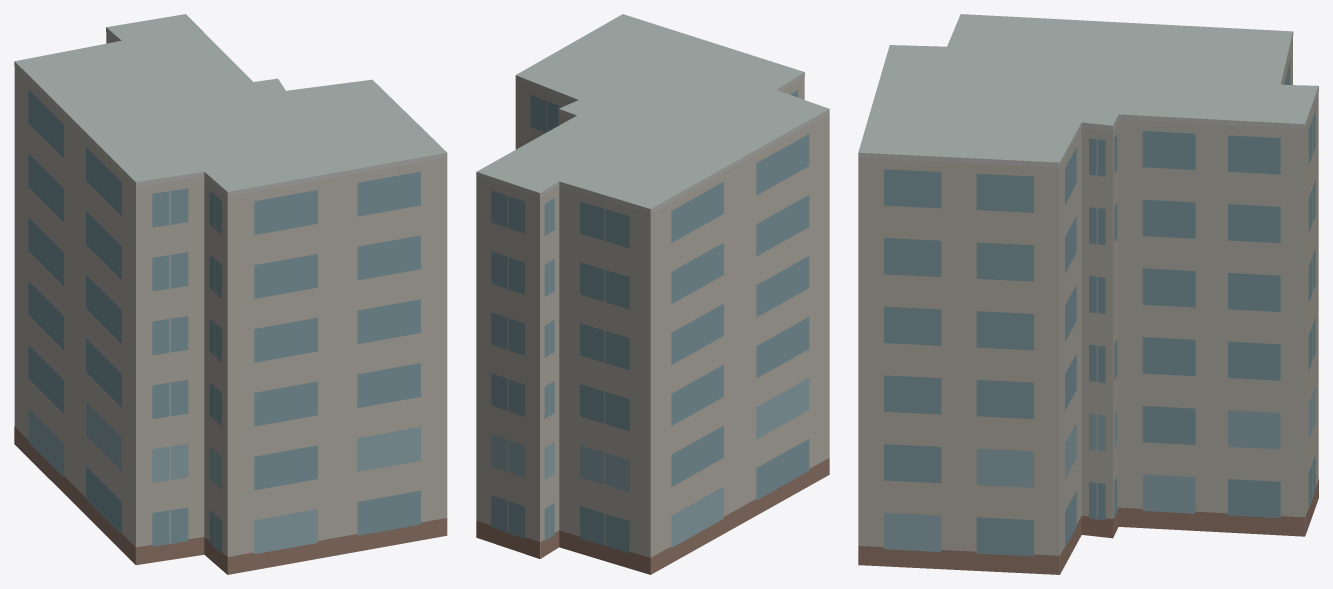
File: survey-upis-32566766.glb
3 renders of one model, left to right at view 1: azimuth 30°, elevation 25°; view 2: azimuth 150°, elevation 25°; view 3: azimuth 270°, elevation 25°, orthographic. The views are drawn at different scales.
Parts seen in each view (by area): view 1: survey-upis-32566766.tmp; view 2: survey-upis-32566766.tmp; view 3: survey-upis-32566766.tmp.
Boxes of the visible parts, x1=… form: survey-upis-32566766.tmp: x1=14, y1=14, x2=447, y2=574; survey-upis-32566766.tmp: x1=476, y1=14, x2=829, y2=574; survey-upis-32566766.tmp: x1=858, y1=14, x2=1318, y2=574.
Bounding box in the file's own units: 15.15 × 19.6 × 19.85.
